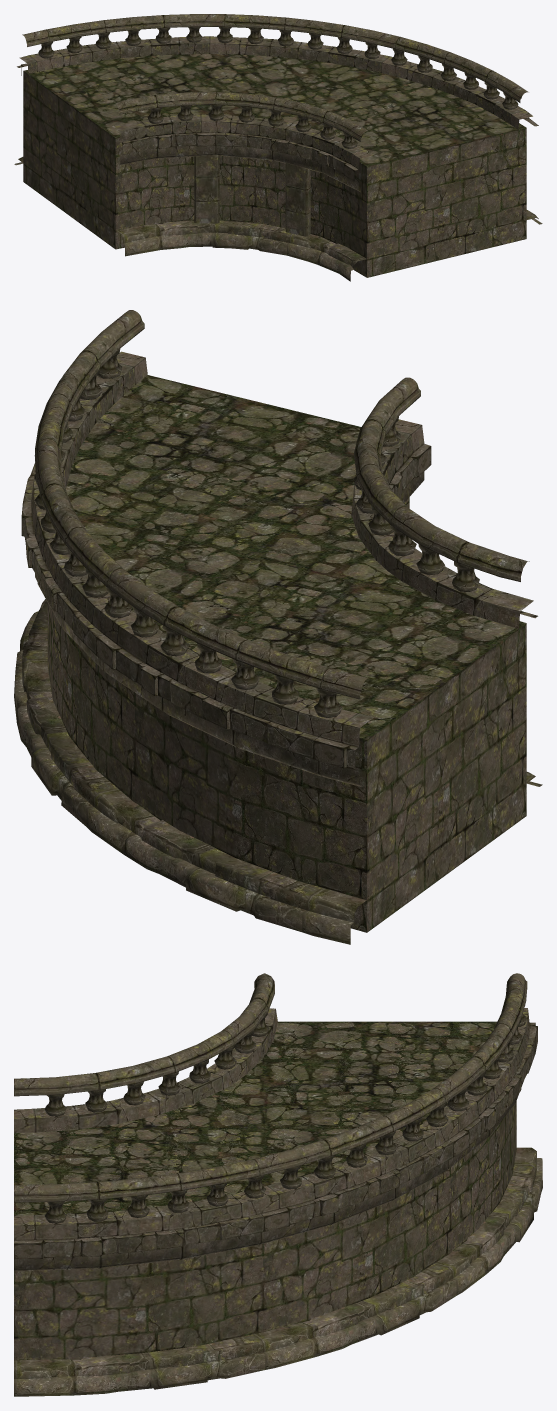
Rendered from Base_Rounded_Preset_06_c-transformed.glb.
3 renders of one model, top to bottom at view 1: azimuth 30°, elevation 25°; view 2: azimuth 150°, elevation 25°; view 3: azimuth 270°, elevation 25°, orthographic. The views are drawn at different scales.
Parts seen in each view (by area): view 1: default; view 2: default; view 3: default.
Boxes of the visible parts, bbox=[...] form: default: bbox=[14, 14, 542, 281]; default: bbox=[14, 310, 542, 944]; default: bbox=[14, 973, 542, 1396].
Size of the model in its own units: 12.62 by 5.27 by 12.62.
4 materials, 4 textured.
